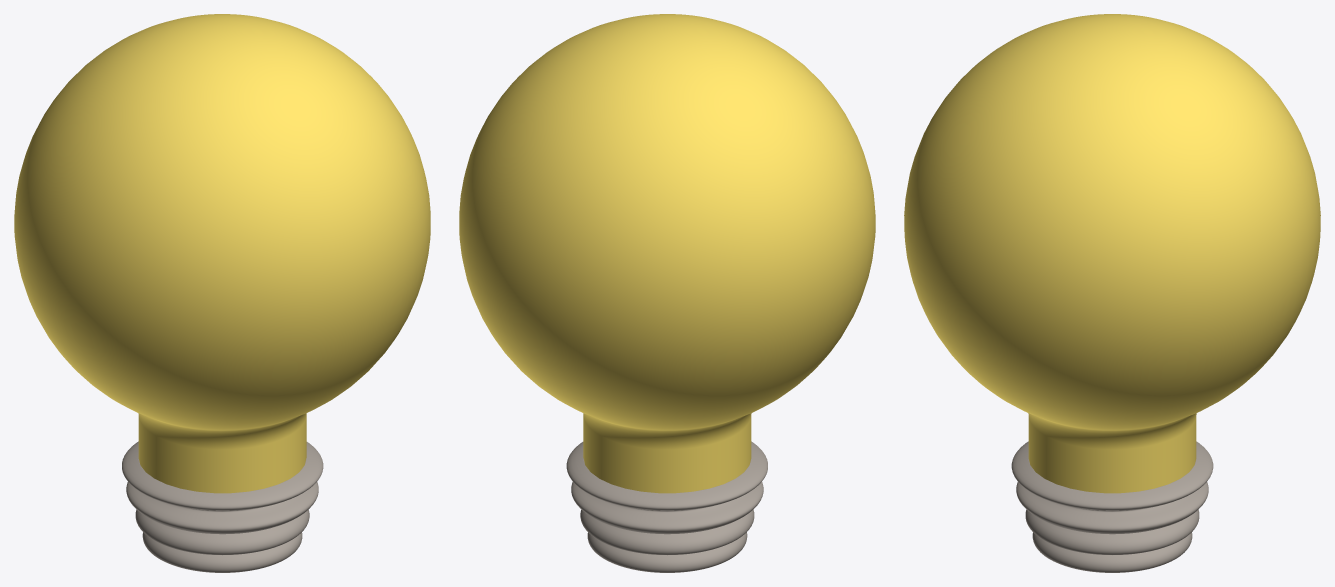
Rendered from Practice19_1.glb.
3 renders of one model, left to right at view 1: azimuth 30°, elevation 25°; view 2: azimuth 150°, elevation 25°; view 3: azimuth 270°, elevation 25°, orthographic.
Visible parts, largest first — view 1: Practice19; view 2: Practice19; view 3: Practice19.
Part boxes in pixels (<box>): Practice19: <box>14,14,430,572</box>; Practice19: <box>459,14,875,572</box>; Practice19: <box>904,14,1320,572</box>.
Size of the model in its own units: 0.372 by 0.5094 by 0.3721.
